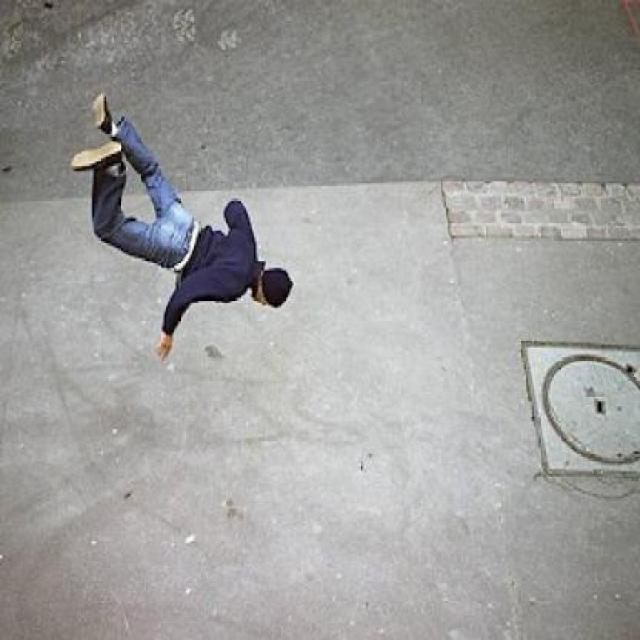fall: (71, 92, 294, 366)
